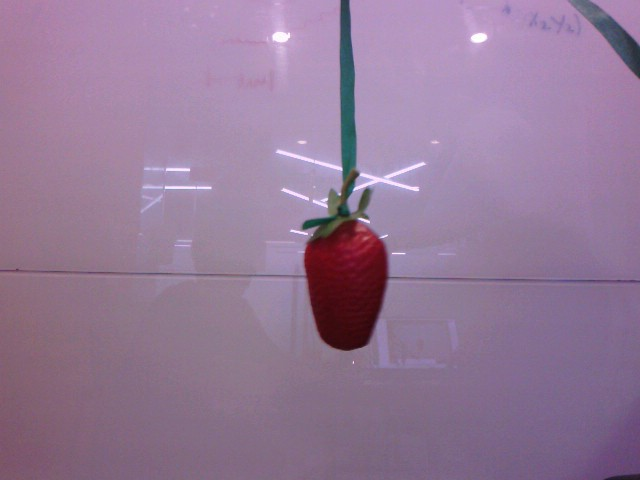strawberry: (299, 210, 394, 352)
